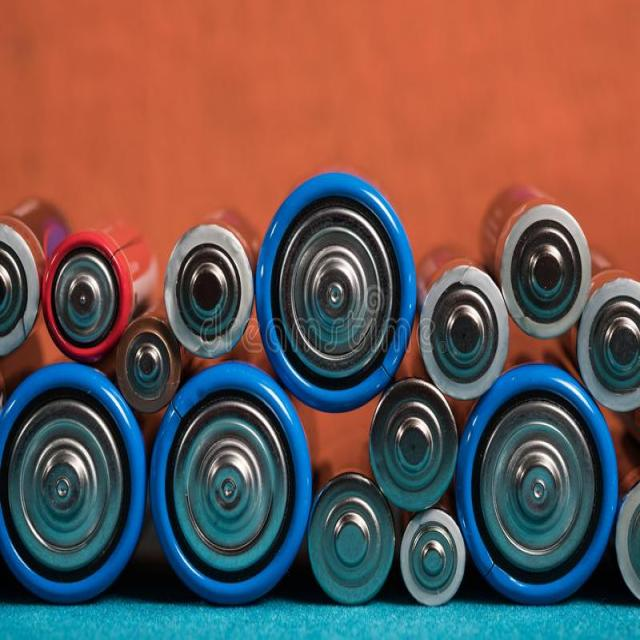Hazard: (0, 180, 640, 630)
